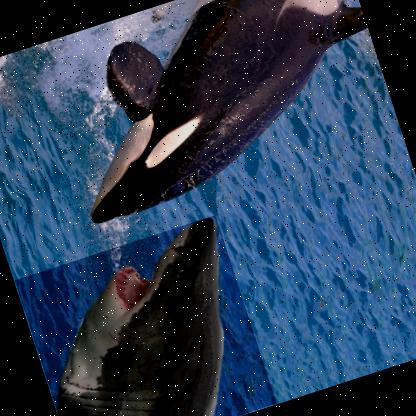white-shark: (13, 215, 278, 415)
